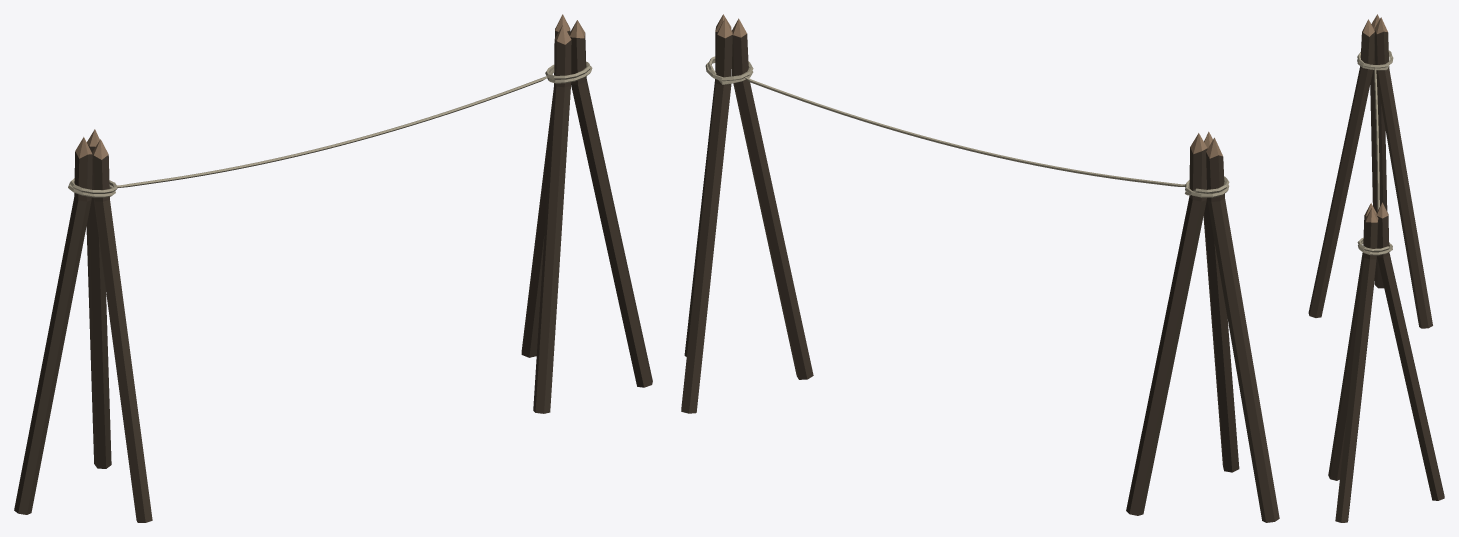
Rendered from S_Cloth_Hanger.fbx.
The picture shows the model from 3 angles, left to right: view 1: azimuth 30°, elevation 25°; view 2: azimuth 150°, elevation 25°; view 3: azimuth 270°, elevation 25°; orthographic projection. The views are drawn at different scales.
Visible parts, largest first — view 1: S_Clothes_Hanger; view 2: S_Clothes_Hanger; view 3: S_Clothes_Hanger.
Part boxes in pixels (x1,y1,x2,y2): S_Clothes_Hanger: (14,14,652,522); S_Clothes_Hanger: (681,14,1279,522); S_Clothes_Hanger: (1308,14,1444,522).
Size of the model in its own units: 9.01 by 5.16 by 2.14.
